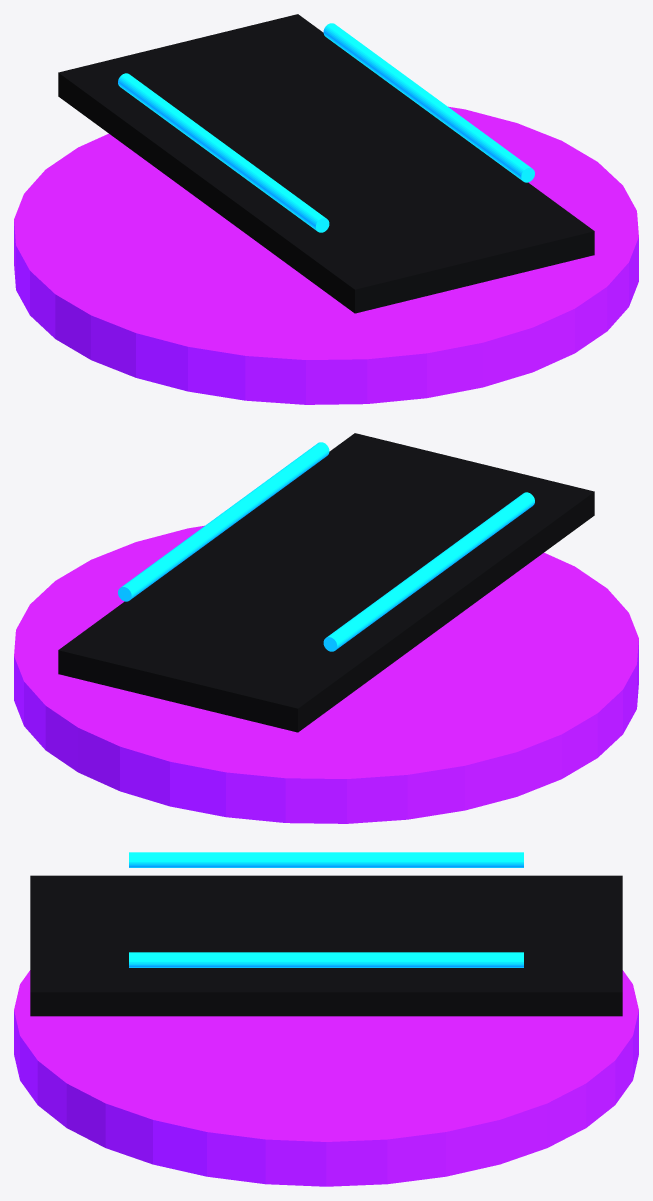
Rendered from modelling_runway.dae.
The picture shows the model from 3 angles, top to bottom: view 1: azimuth 30°, elevation 25°; view 2: azimuth 150°, elevation 25°; view 3: azimuth 270°, elevation 25°; orthographic projection.
Parts seen in each view (by area): view 1: 05_08_Popular_Modelling_Runway_ROOT_base, 05_08_Popular_Modelling_Runway_part_01, 05_08_Popular_Modelling_Runway_part_03, 05_08_Popular_Modelling_Runway_part_02; view 2: 05_08_Popular_Modelling_Runway_ROOT_base, 05_08_Popular_Modelling_Runway_part_01, 05_08_Popular_Modelling_Runway_part_03, 05_08_Popular_Modelling_Runway_part_02; view 3: 05_08_Popular_Modelling_Runway_ROOT_base, 05_08_Popular_Modelling_Runway_part_01, 05_08_Popular_Modelling_Runway_part_02, 05_08_Popular_Modelling_Runway_part_03.
Boxes of the visible parts, x1,y1,x2,y2 form: 05_08_Popular_Modelling_Runway_ROOT_base: [14, 106, 638, 404]; 05_08_Popular_Modelling_Runway_part_01: [58, 14, 594, 313]; 05_08_Popular_Modelling_Runway_part_03: [323, 23, 534, 182]; 05_08_Popular_Modelling_Runway_part_02: [118, 73, 329, 232]; 05_08_Popular_Modelling_Runway_ROOT_base: [14, 525, 638, 823]; 05_08_Popular_Modelling_Runway_part_01: [58, 433, 594, 732]; 05_08_Popular_Modelling_Runway_part_03: [118, 442, 329, 601]; 05_08_Popular_Modelling_Runway_part_02: [323, 492, 534, 651]; 05_08_Popular_Modelling_Runway_ROOT_base: [14, 970, 638, 1186]; 05_08_Popular_Modelling_Runway_part_01: [30, 875, 622, 1016]; 05_08_Popular_Modelling_Runway_part_02: [129, 852, 523, 867]; 05_08_Popular_Modelling_Runway_part_03: [129, 952, 523, 967].
Bounding box in the file's own units: 0.76 × 0.2036 × 0.76.
